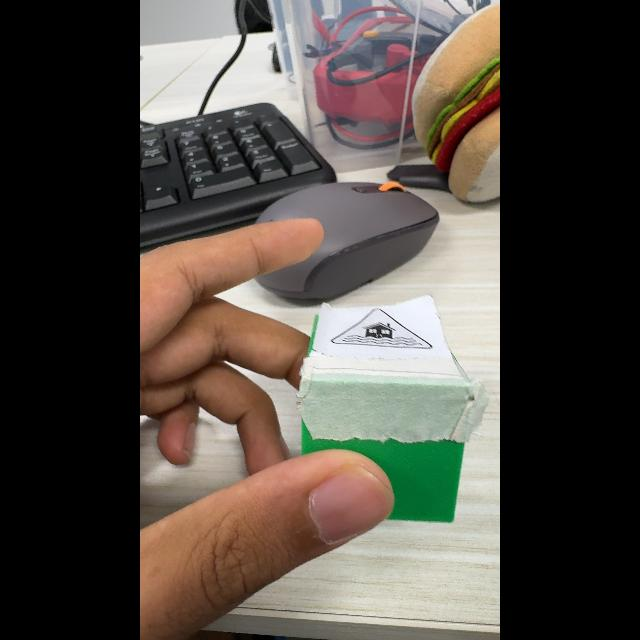Tsunami: (331, 308, 432, 350)
